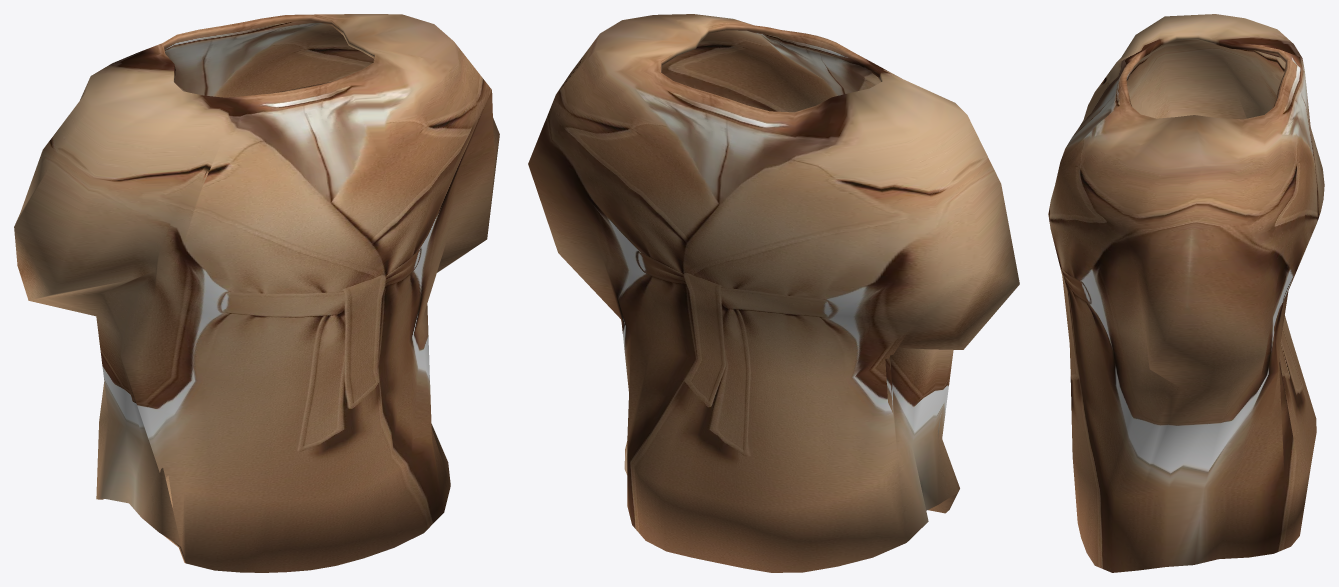
3 renders of one model, left to right at view 1: azimuth 30°, elevation 25°; view 2: azimuth 150°, elevation 25°; view 3: azimuth 270°, elevation 25°, orthographic. The views are drawn at different scales.
Parts seen in each view (by area): view 1: garment; view 2: garment; view 3: garment.
Part boxes in pixels (box(x1,y1,x2,y2)): garment: box(14, 14, 499, 572); garment: box(528, 14, 1019, 572); garment: box(1048, 14, 1324, 572).
Bounding box in the file's own units: 0.5984 × 0.5798 × 0.3272.
Materials: 1 (1 with a texture image).
